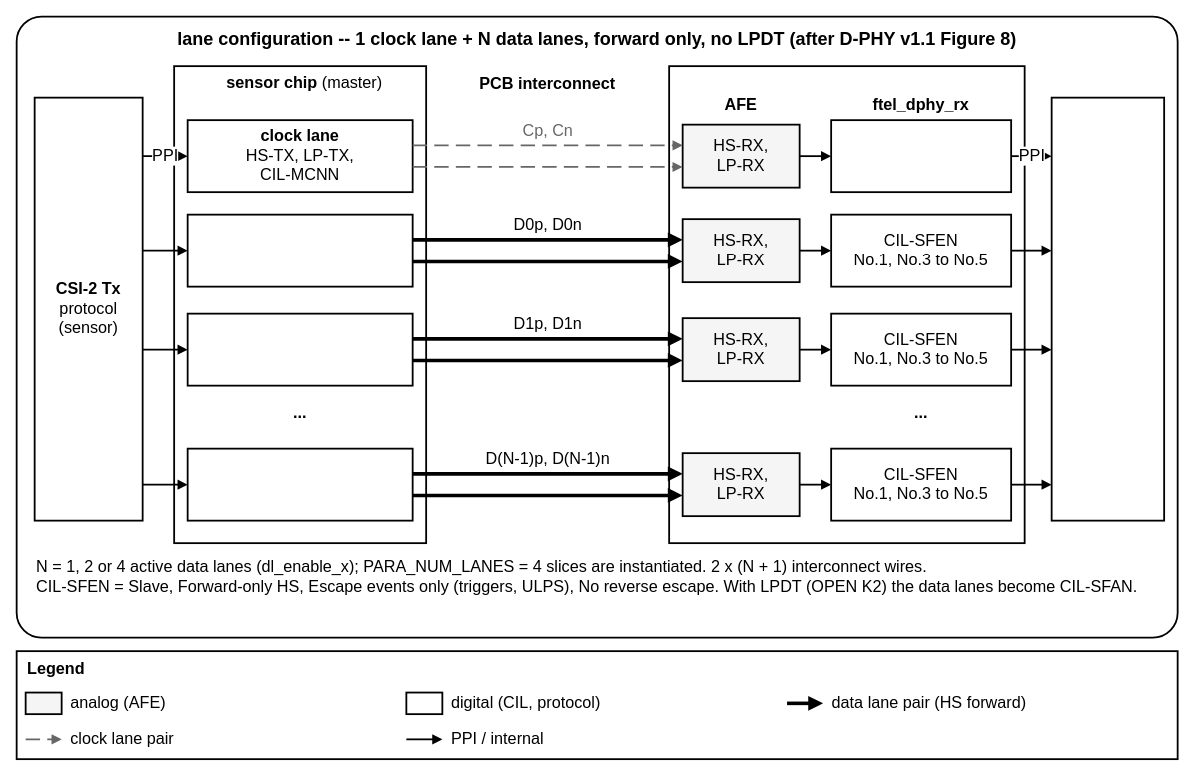
This 1193x775 diagram has some shape labels left out. Each missing label, with the box of its shape:
CIL-SCNN No.1, No.2: (830, 119, 1012, 193)
CSI-2 Rx controller (HAS-CSI): (1050, 96, 1165, 521)
data lane 0 HS-TX, LP-TX, CIL-MFEN: (186, 213, 413, 287)
data lane 1 HS-TX, LP-TX, CIL-MFEN: (186, 312, 413, 386)
data lane N-1 HS-TX, LP-TX, CIL-MFEN: (186, 447, 413, 521)
FX1 SoC (slave): (668, 65, 1025, 544)
